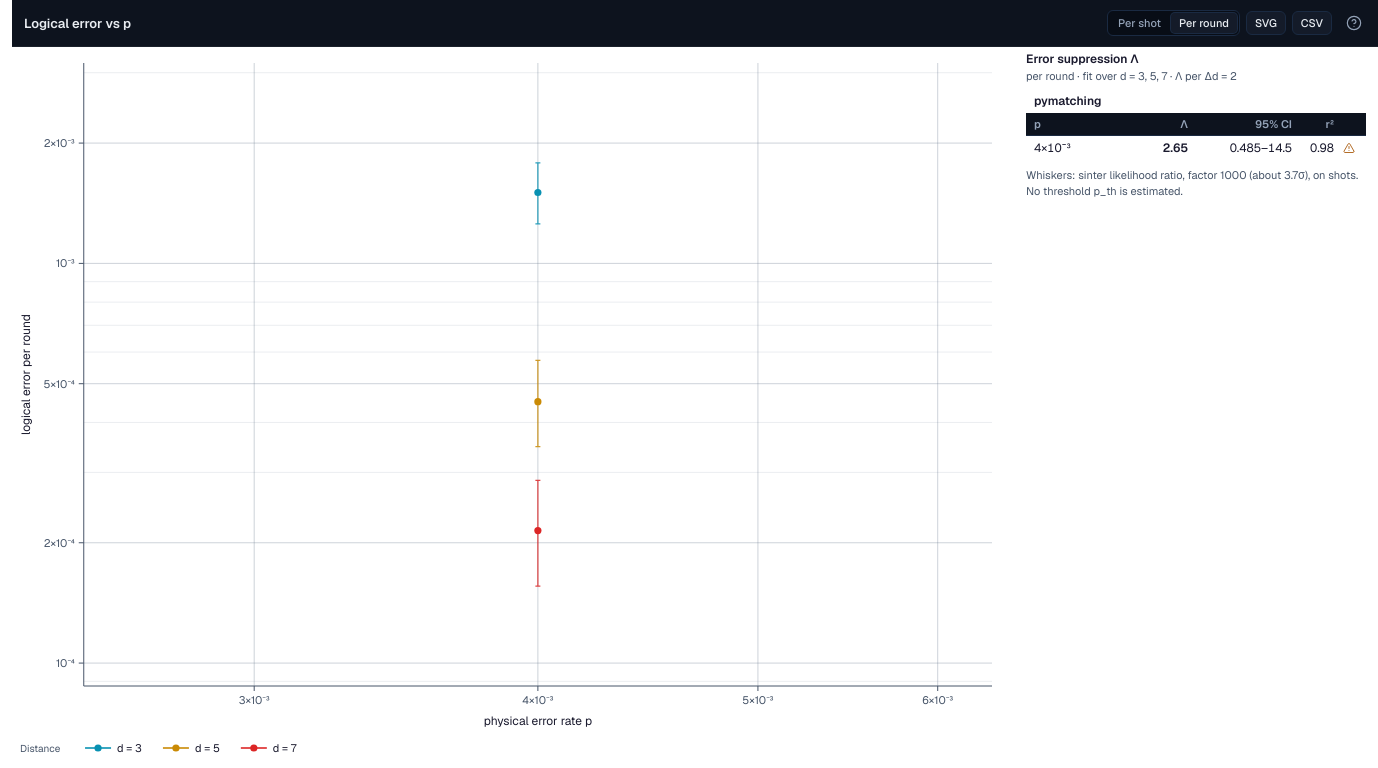
Test case: Λ readout caveats › warns when rounds vary with distance in the per-shot view only
Click the radio button labelled "Per shot".
click(1140, 23)  # box [1110,13,1169,33]
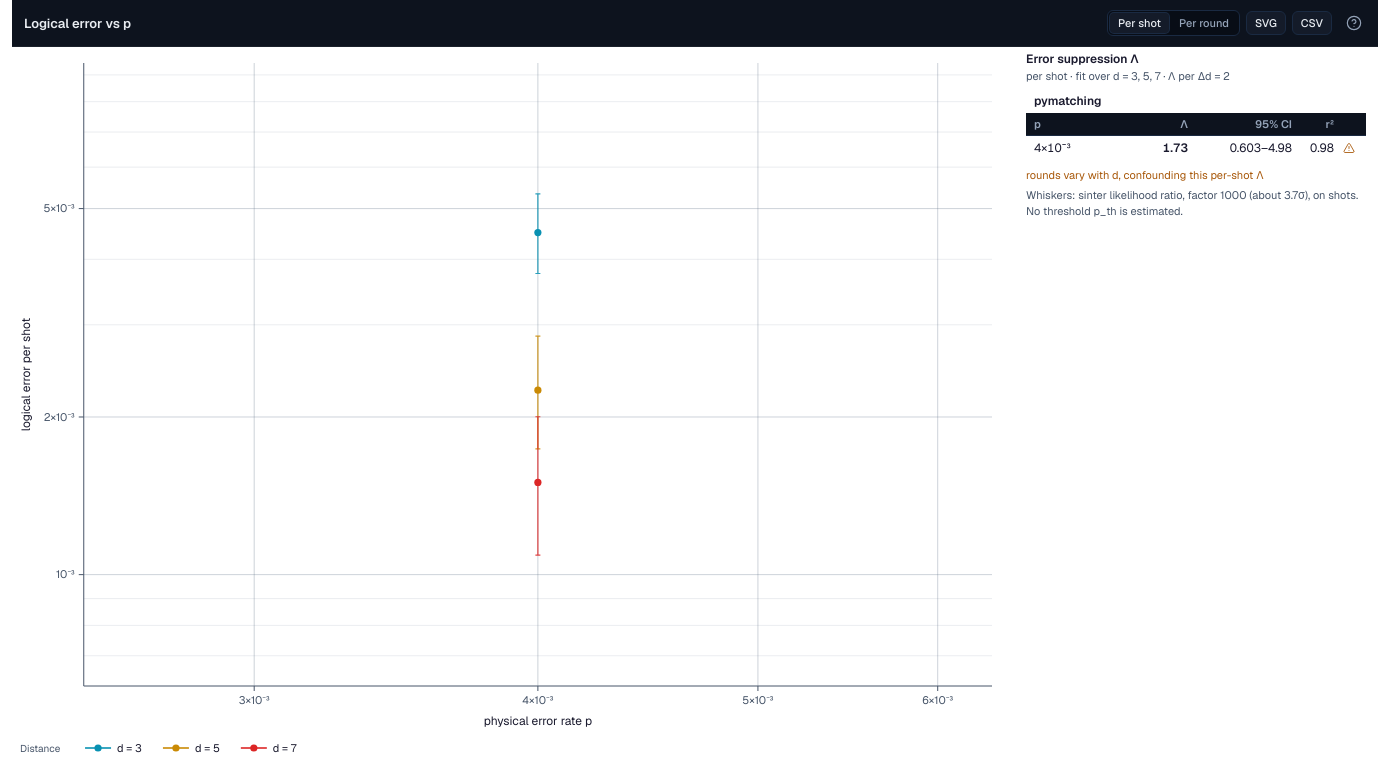
Check: the element named "Error suppression factor Λ" shows "rounds vary with d, confounding this per-shot Λ", box [1026,168,1264,182]
